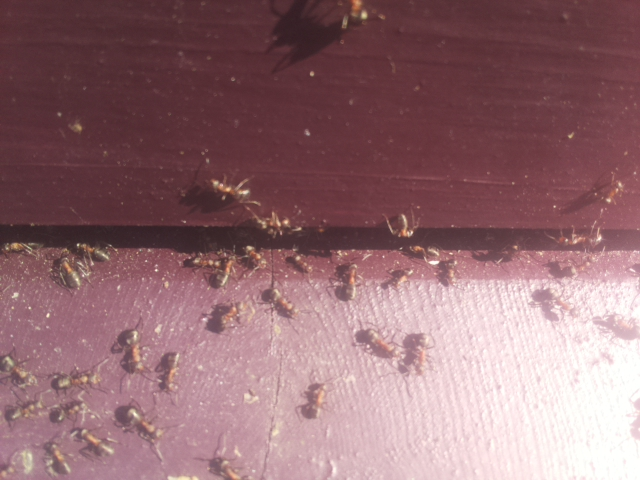ant: (348, 321, 405, 363), (118, 402, 170, 446), (260, 283, 305, 325), (200, 173, 257, 205), (119, 325, 154, 377), (69, 425, 119, 458), (298, 375, 329, 427), (0, 350, 41, 388), (50, 365, 105, 393), (0, 395, 47, 427), (406, 326, 431, 383), (42, 439, 74, 478), (377, 265, 414, 296), (334, 262, 359, 307), (208, 257, 238, 294), (58, 254, 86, 291), (162, 346, 181, 396), (46, 398, 82, 424), (207, 455, 246, 478), (386, 210, 416, 239), (0, 237, 41, 258), (241, 240, 267, 272), (75, 240, 111, 262), (284, 253, 314, 276), (604, 178, 625, 205)
